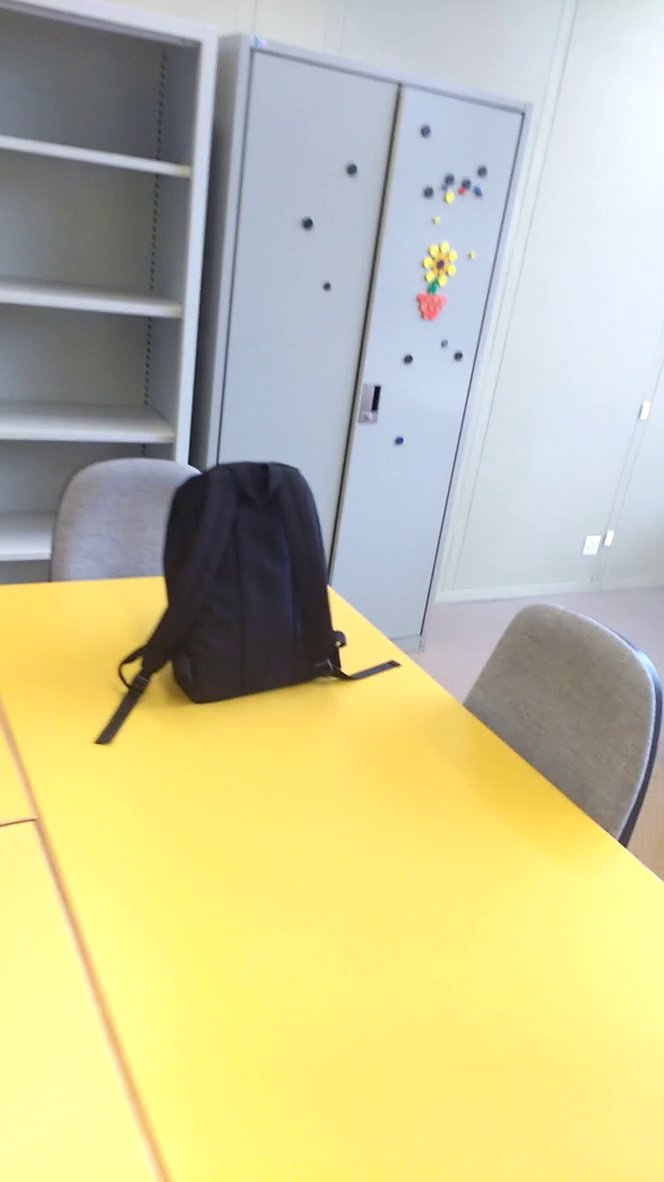bag: (94, 446, 405, 751)
chair: (448, 583, 664, 920), (46, 452, 208, 597)
